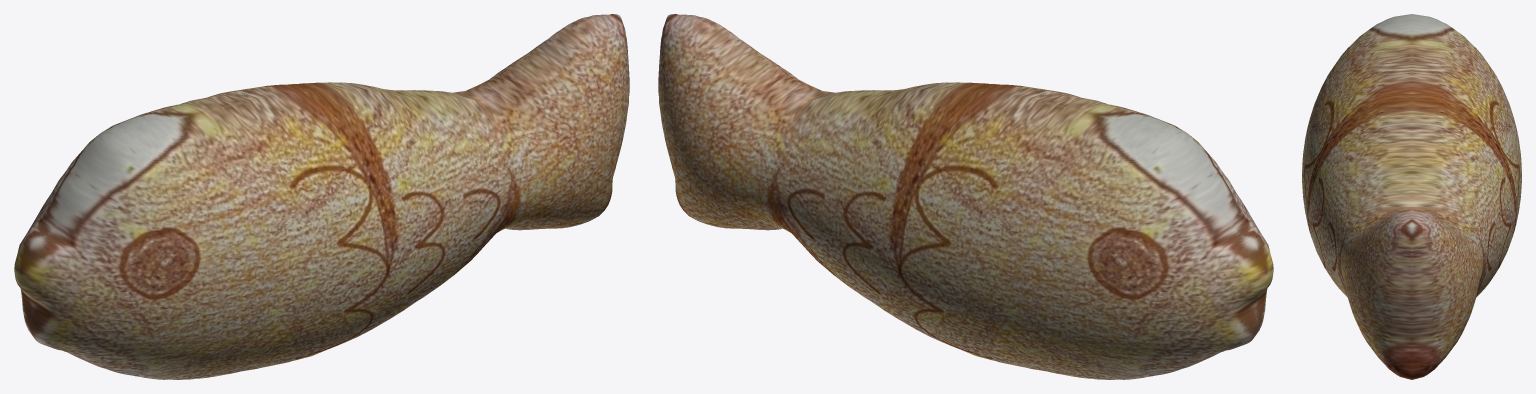
The model's file is 이태양_붕어빵.glb.
3 renders of one model, left to right at view 1: azimuth 30°, elevation 25°; view 2: azimuth 150°, elevation 25°; view 3: azimuth 270°, elevation 25°, orthographic. The views are drawn at different scales.
Bounding box in the file's own units: 5.14 × 2.1 × 1.87.
1 material, 1 textured.
